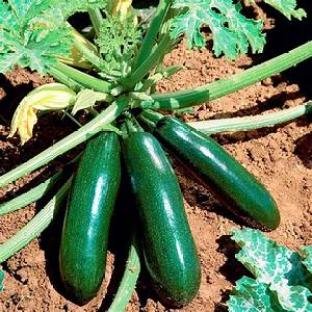Zucchini: (154, 117, 279, 228), (122, 133, 200, 306), (60, 133, 120, 303)
